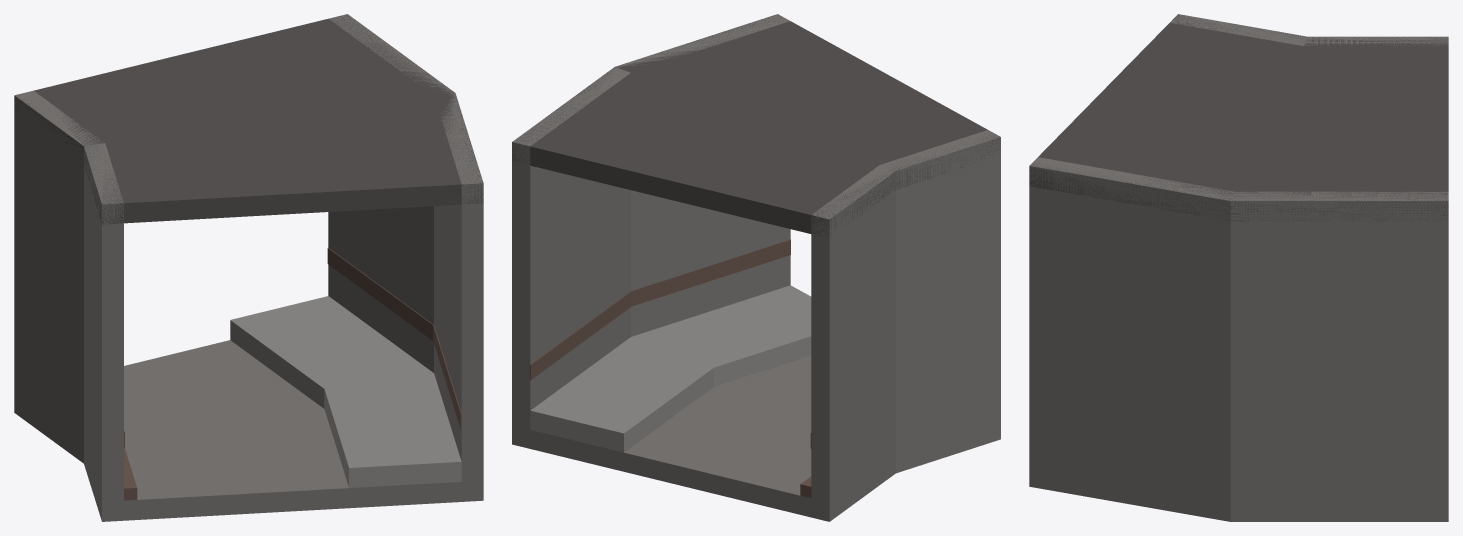
File: B_culvert_bendN.glb
3 views of the same model, side by side, from view 1: azimuth 30°, elevation 25°; view 2: azimuth 150°, elevation 25°; view 3: azimuth 270°, elevation 25° (orthographic). The views are drawn at different scales.
Parts seen in each view (by area): view 1: hexa.015, hexa.007, hexa.008, hexa.003, hexa.013, hexa.011, hexa, hexa.005, hexa.010, hexa.002, hexa.006, hexa.014; view 2: hexa.011, hexa.007, hexa.003, hexa.005, hexa.015, hexa, hexa.013, hexa.002, hexa.010, hexa.008, hexa.014, hexa.006; view 3: hexa.005, hexa.013, hexa.007, hexa.015, hexa, hexa.008, hexa.011, hexa.003.
Boxes of the visible parts, x1,y1,x2,y2 form: hexa.015: [84, 93, 483, 224]; hexa.007: [14, 14, 453, 155]; hexa.008: [84, 409, 483, 521]; hexa.003: [14, 90, 104, 462]; hexa.013: [434, 93, 483, 500]; hexa.011: [84, 143, 123, 521]; hexa: [14, 340, 323, 463]; hexa.005: [328, 14, 454, 372]; hexa.010: [324, 373, 461, 487]; hexa.002: [230, 296, 433, 408]; hexa.006: [327, 247, 433, 340]; hexa.014: [433, 325, 461, 429]; hexa.011: [880, 130, 1000, 473]; hexa.007: [512, 67, 895, 237]; hexa.003: [811, 165, 895, 520]; hexa.005: [512, 67, 630, 429]; hexa.015: [616, 14, 1000, 189]; hexa: [512, 387, 895, 521]; hexa.013: [615, 14, 790, 336]; hexa.002: [530, 337, 713, 452]; hexa.010: [631, 285, 811, 386]; hexa.008: [714, 355, 1000, 472]; hexa.014: [631, 239, 790, 306]; hexa.006: [530, 291, 631, 379]; hexa.005: [1230, 191, 1448, 521]; hexa.013: [1029, 157, 1234, 521]; hexa.007: [1230, 36, 1448, 221]; hexa.015: [1029, 14, 1306, 220]; hexa: [1230, 501, 1448, 521]; hexa.008: [1029, 467, 1230, 521]; hexa.011: [1170, 14, 1307, 45]; hexa.003: [1304, 36, 1448, 46].
Bounding box in the file's own units: 9.88 × 7.9 × 9.36.
